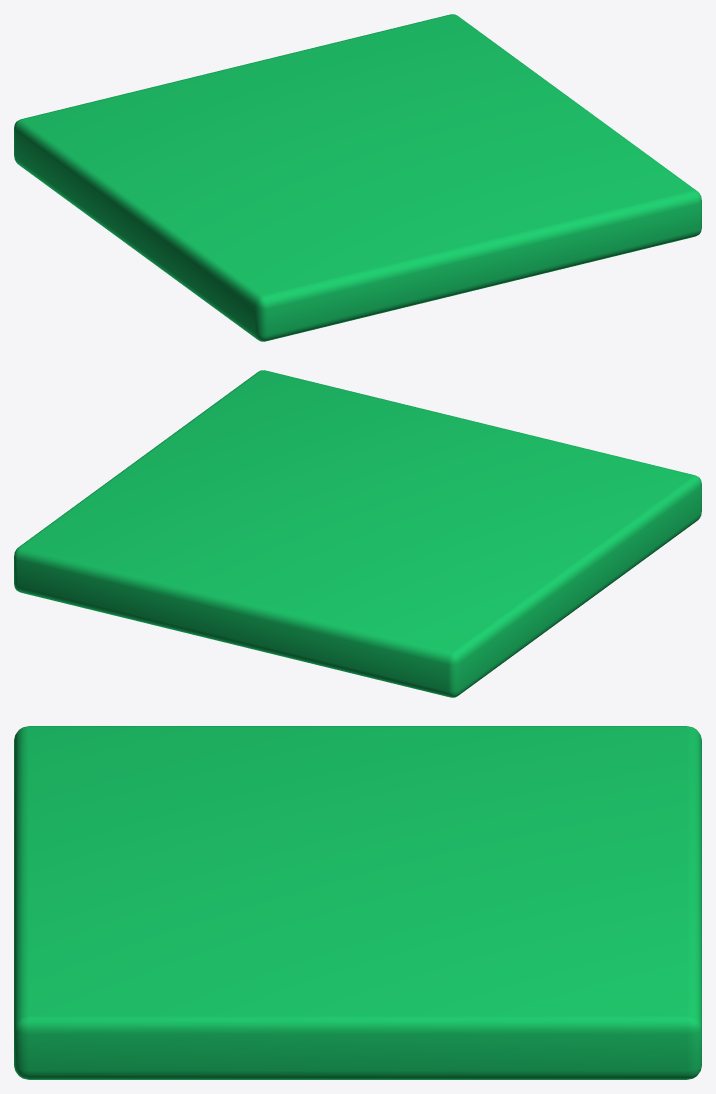
Rendered from house.obj.
3 views of the same model, one above another, from view 1: azimuth 30°, elevation 25°; view 2: azimuth 150°, elevation 25°; view 3: azimuth 270°, elevation 25° (orthographic). The views are drawn at different scales.
Parts seen in each view (by area): view 1: 立方体.006; view 2: 立方体.006; view 3: 立方体.006.
Boxes of the visible parts, <box> form: 立方体.006: <box>14,14,701,341</box>; 立方体.006: <box>14,370,701,697</box>; 立方体.006: <box>14,726,701,1079</box>.
Size of the model in its own units: 1.52 by 0.1499 by 1.48.
